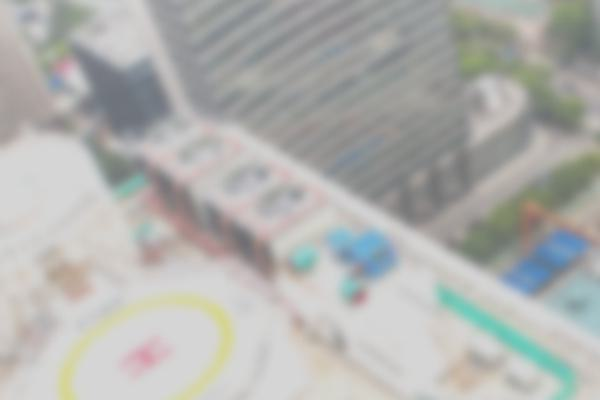Apron: (55, 305, 218, 386)
